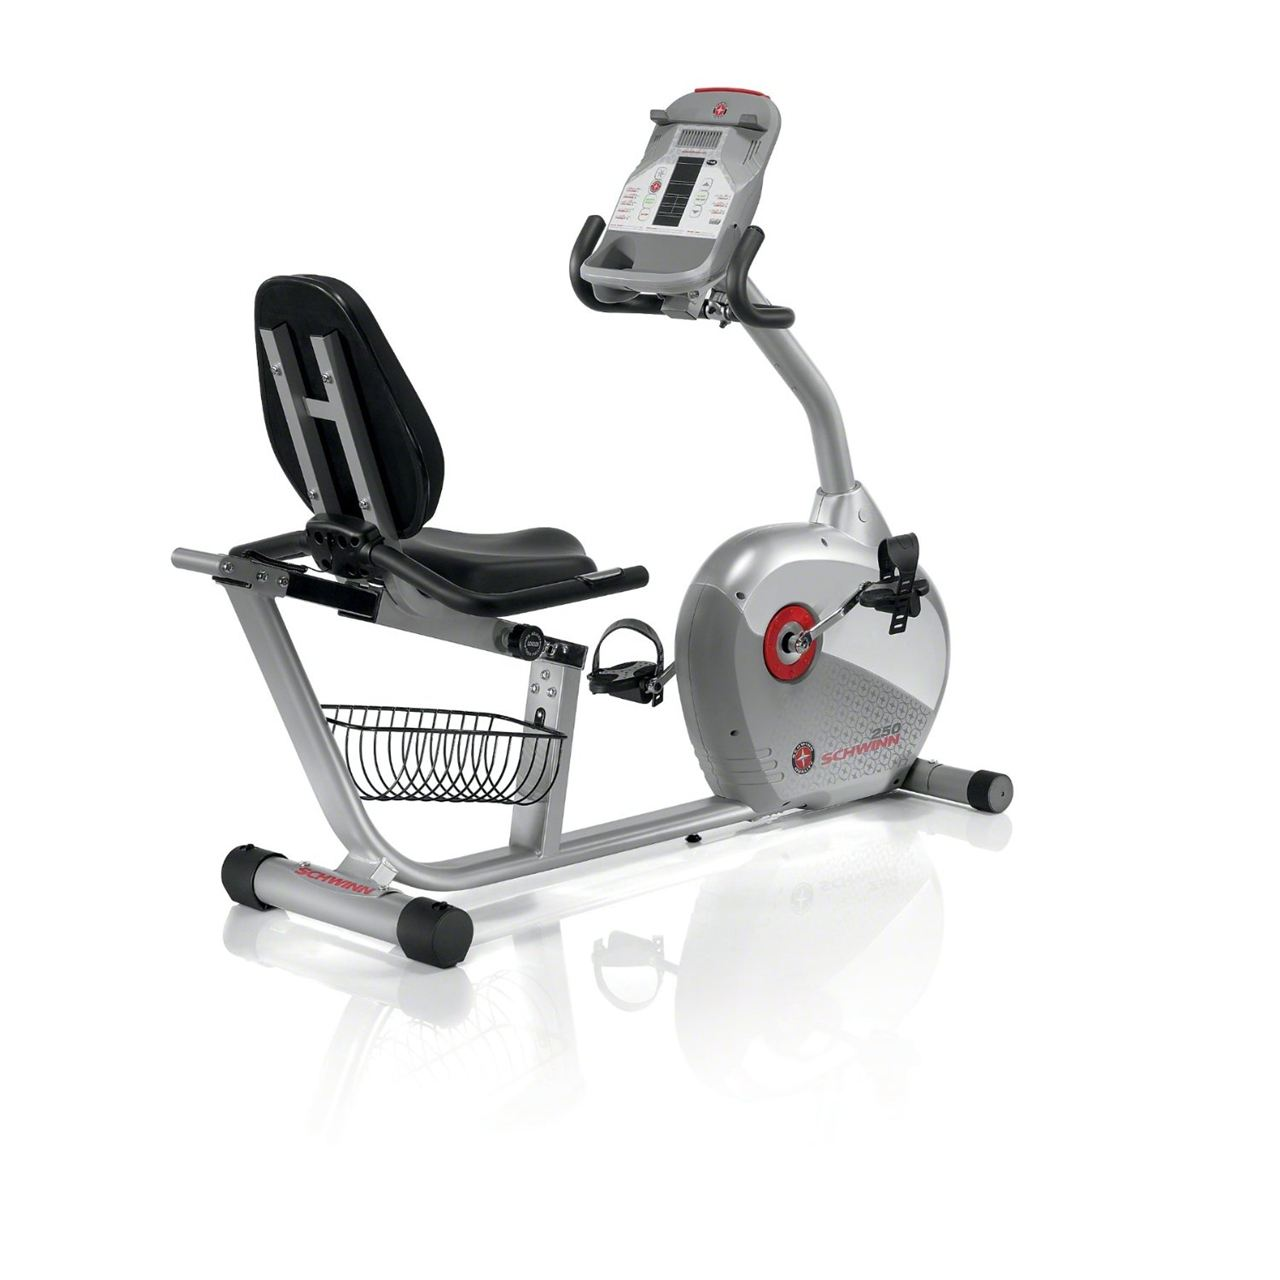gym_bike: (131, 88, 1033, 989)
